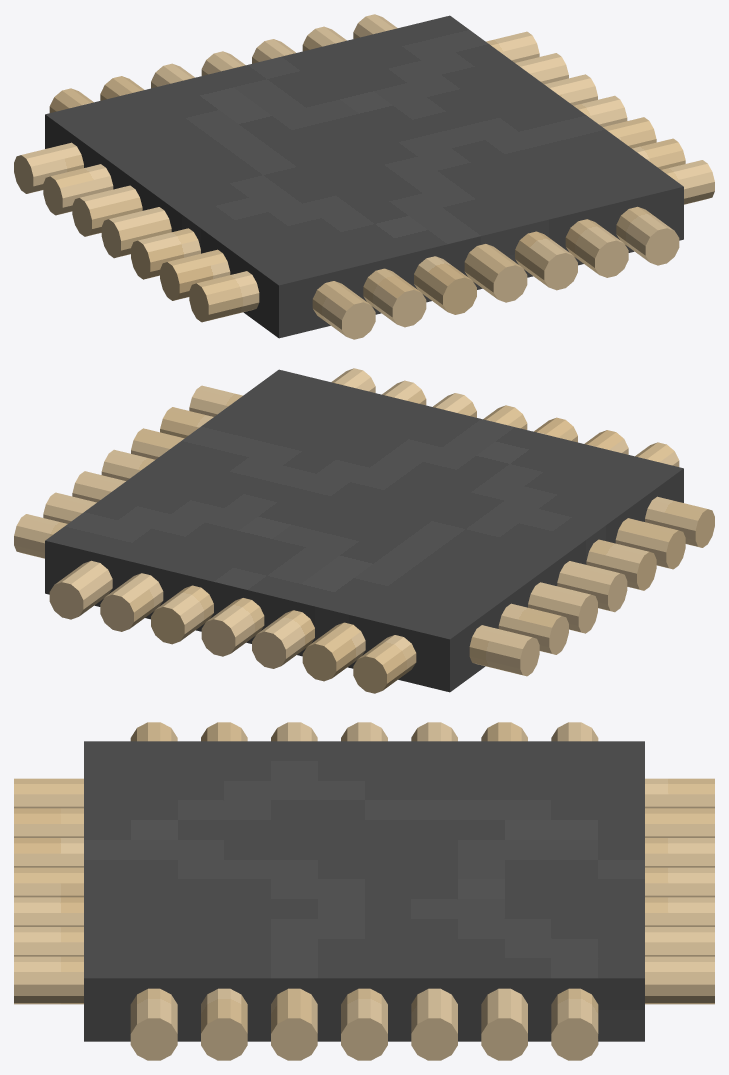
File: chip.fbx
3 renders of one model, top to bottom at view 1: azimuth 30°, elevation 25°; view 2: azimuth 150°, elevation 25°; view 3: azimuth 270°, elevation 25°, orthographic. The views are drawn at different scales.
Visible parts, largest first — view 1: cuboid, xAxisTube7, xAxisTube4, xAxisTube6, xAxisTube2, xAxisTube1, xAxisTube3, xAxisTube5, zAxisTube2, zAxisTube6, zAxisTube7, zAxisTube1 (+3 smaller); view 2: cuboid, xAxisTube1, xAxisTube4, xAxisTube2, xAxisTube6, xAxisTube7, xAxisTube5, xAxisTube3, zAxisTube2, zAxisTube6, zAxisTube7, zAxisTube1 (+3 smaller); view 3: cuboid, zAxisTube1, zAxisTube4, zAxisTube7, zAxisTube3, zAxisTube2, zAxisTube5, zAxisTube6, xAxisTube1, xAxisTube7, xAxisTube4, xAxisTube3 (+3 smaller).
Part boxes in pixels (x1,y1,x2,y2): cuboid: (45, 15, 683, 338); xAxisTube7: (189, 160, 714, 322); xAxisTube4: (101, 95, 627, 258); xAxisTube6: (160, 138, 685, 300); xAxisTube2: (43, 53, 568, 215); xAxisTube1: (14, 31, 539, 193); xAxisTube3: (72, 74, 597, 236); xAxisTube5: (131, 117, 656, 279); zAxisTube2: (302, 26, 628, 277); zAxisTube6: (100, 76, 426, 327); zAxisTube7: (49, 88, 375, 339); zAxisTube1: (353, 14, 679, 265); cuboid: (45, 369, 683, 692); xAxisTube1: (14, 514, 539, 676); xAxisTube4: (101, 449, 627, 612); xAxisTube2: (43, 492, 568, 654); xAxisTube6: (160, 407, 685, 569); xAxisTube7: (189, 385, 714, 547); xAxisTube5: (131, 428, 656, 590); xAxisTube3: (72, 471, 597, 633); zAxisTube2: (100, 380, 426, 631); zAxisTube6: (302, 430, 628, 681); zAxisTube7: (353, 442, 679, 693); zAxisTube1: (49, 368, 375, 619); cuboid: (84, 741, 644, 1041); zAxisTube1: (14, 956, 714, 1004); zAxisTube4: (14, 867, 714, 897); zAxisTube7: (14, 778, 714, 808); zAxisTube3: (14, 897, 714, 926); zAxisTube2: (14, 927, 714, 956); zAxisTube5: (14, 838, 714, 867); zAxisTube6: (14, 808, 714, 837); xAxisTube1: (551, 722, 598, 1060); xAxisTube7: (130, 722, 177, 1060); xAxisTube4: (341, 722, 387, 1060); xAxisTube3: (411, 722, 457, 1060).
Size of the model in its own units: 93.75 by 9.38 by 93.75.
Materials: 1 (1 with a texture image).
